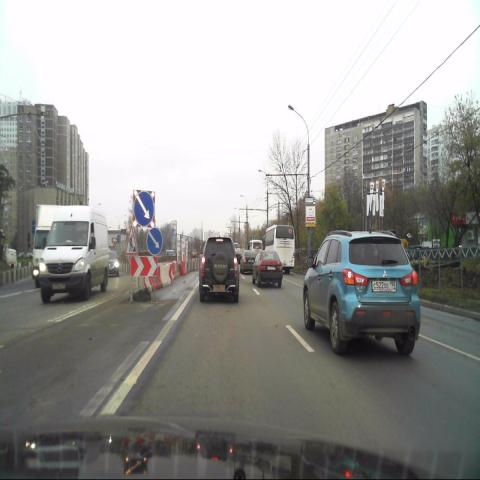1_25: (125, 224, 138, 255)
4_2_1: (146, 228, 162, 256)
